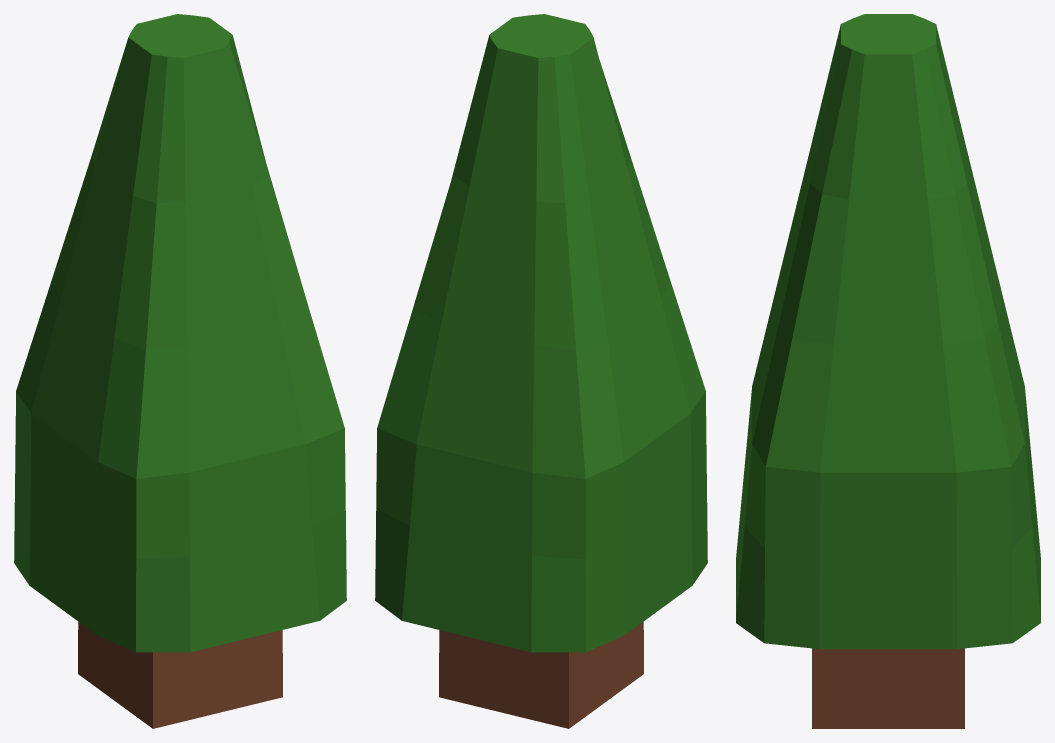
File: medis1.fbx
3 renders of one model, left to right at view 1: azimuth 30°, elevation 25°; view 2: azimuth 150°, elevation 25°; view 3: azimuth 270°, elevation 25°, orthographic.
Visible parts, largest first — view 1: medis2; view 2: medis2; view 3: medis2.
Boxes of the visible parts, x1,y1,x2,y2 form: medis2: [14, 14, 346, 728]; medis2: [375, 14, 707, 728]; medis2: [736, 14, 1040, 728].
Bounding box in the file's own units: 361 × 955 × 399.
